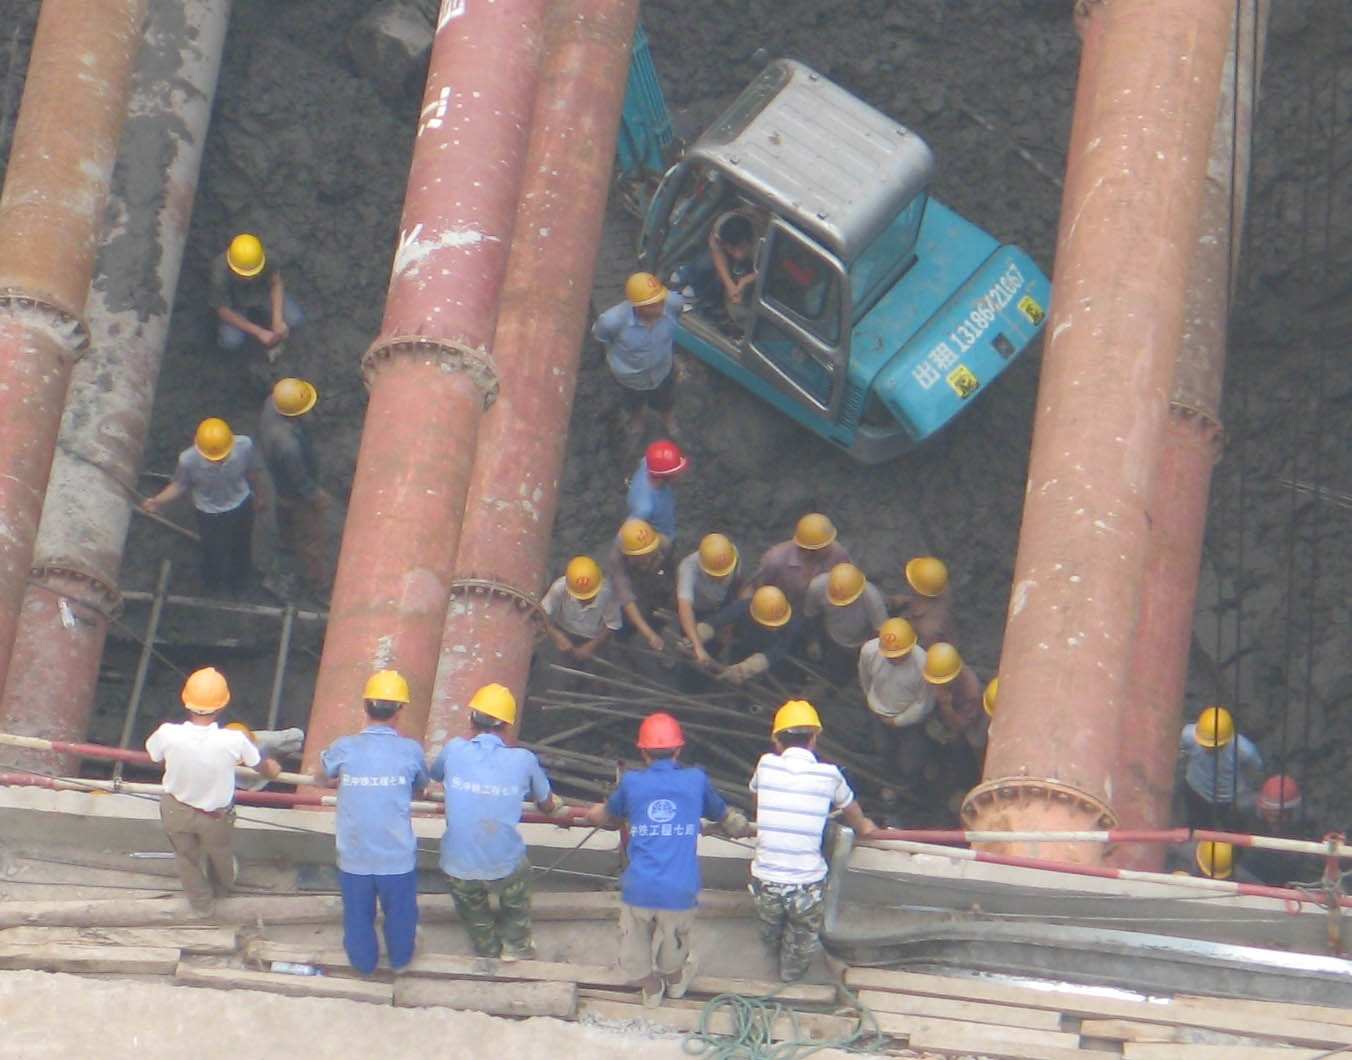none: (716, 211, 756, 262)
red: (633, 708, 681, 764), (640, 435, 688, 487), (1257, 773, 1302, 821)
yellow: (176, 663, 234, 724), (764, 698, 821, 753), (358, 667, 408, 723), (467, 681, 518, 732), (222, 232, 269, 282), (269, 373, 316, 422), (902, 554, 948, 604), (1191, 703, 1235, 754), (694, 532, 737, 582), (792, 510, 835, 560), (563, 553, 604, 605), (1191, 834, 1237, 879), (192, 417, 234, 466), (750, 584, 790, 632), (876, 614, 915, 664), (629, 272, 667, 322), (824, 562, 866, 607), (618, 519, 656, 565), (925, 643, 962, 690)
